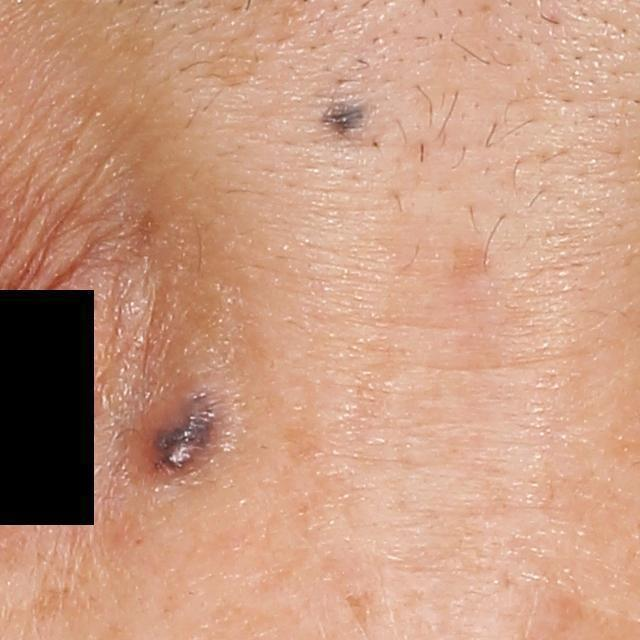melasma: (276, 399, 330, 473), (20, 581, 108, 624), (446, 235, 505, 286), (343, 588, 373, 632)
nevus: (142, 385, 232, 487), (325, 104, 375, 145)
